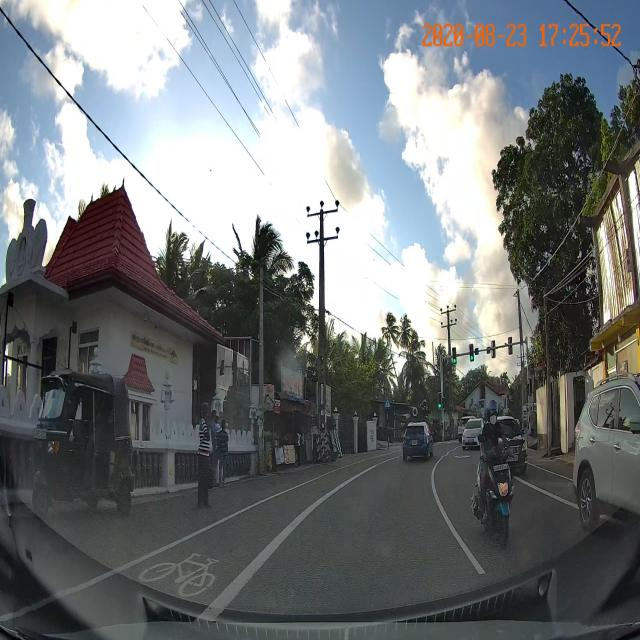Velosiped: (127, 549, 222, 604)
